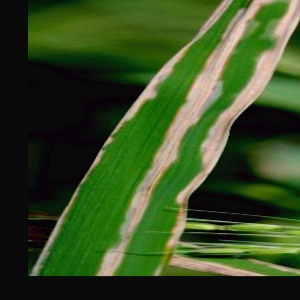Leaf_Blast: (158, 0, 283, 202)
